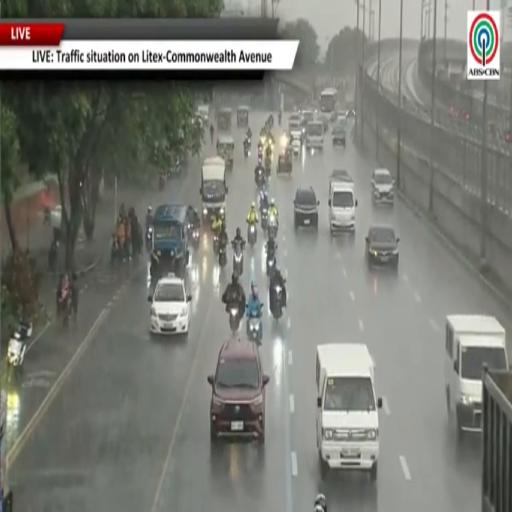bus: (320, 88, 337, 114)
car: (207, 340, 269, 443), (149, 274, 191, 335), (366, 226, 399, 269), (294, 187, 319, 229), (371, 169, 394, 205), (332, 123, 345, 147)
jeepney: (153, 204, 189, 276), (216, 136, 234, 170), (217, 108, 232, 131), (237, 106, 250, 127)
motorcycle: (7, 322, 32, 369), (59, 294, 72, 328), (271, 285, 282, 319), (248, 317, 261, 344), (111, 237, 124, 263), (48, 238, 58, 271), (233, 244, 243, 276), (229, 304, 239, 333), (266, 251, 276, 278), (248, 224, 257, 248), (255, 168, 265, 189), (268, 215, 277, 238), (191, 228, 200, 249), (261, 208, 268, 232), (219, 245, 226, 267), (146, 227, 152, 252), (265, 157, 271, 177), (213, 233, 218, 253), (244, 142, 250, 158), (159, 174, 165, 190), (258, 147, 263, 162), (247, 136, 251, 148)
truck: (482, 366, 511, 511), (152, 204, 189, 278), (200, 157, 227, 221)
